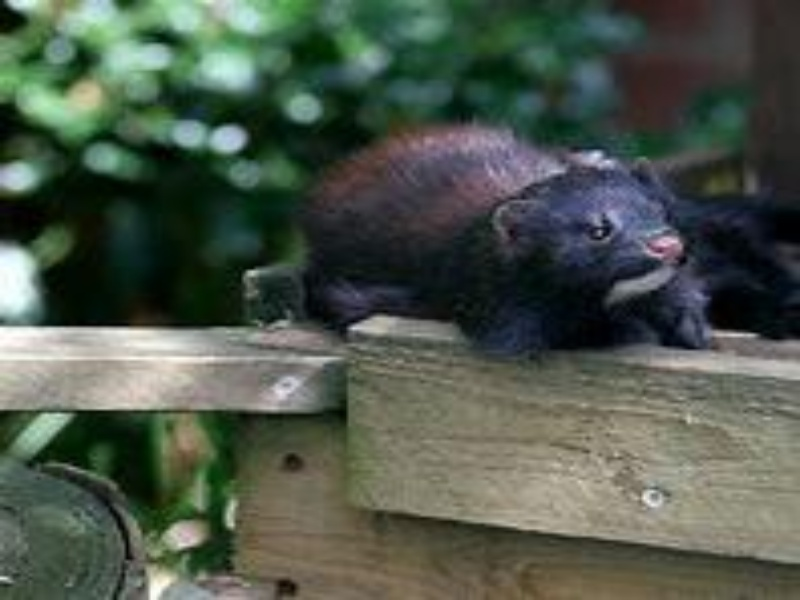minkish: (247, 124, 723, 363)
